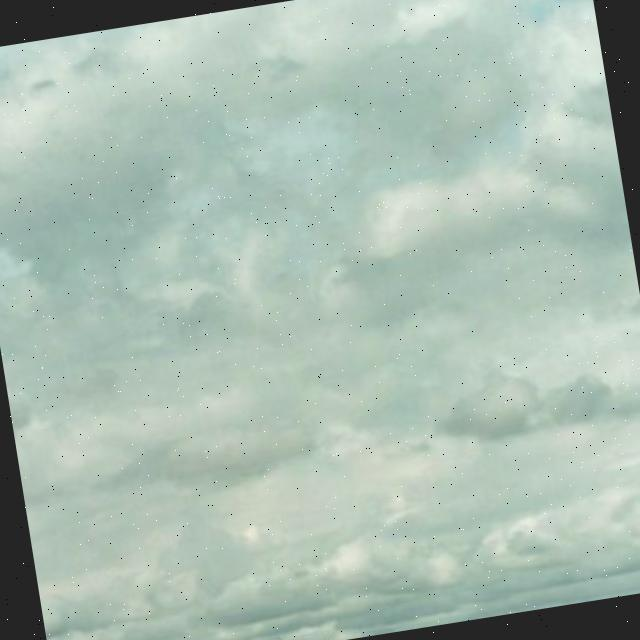Sc: (1, 1, 640, 559)
